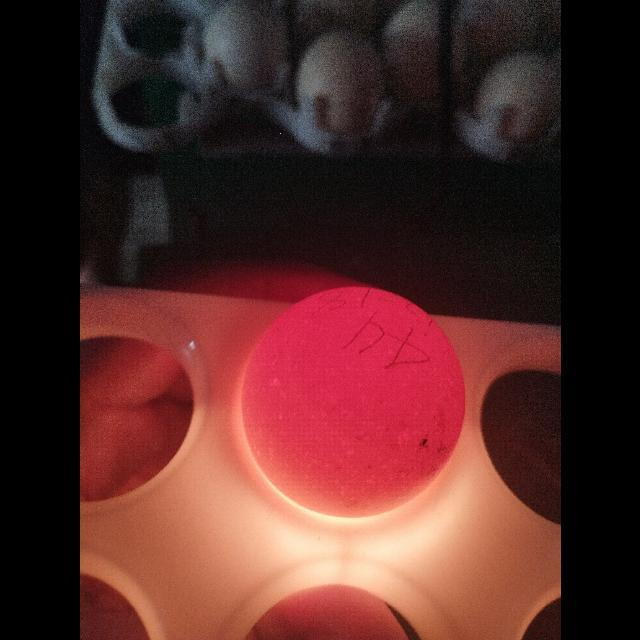Infertile: (236, 282, 470, 524)
